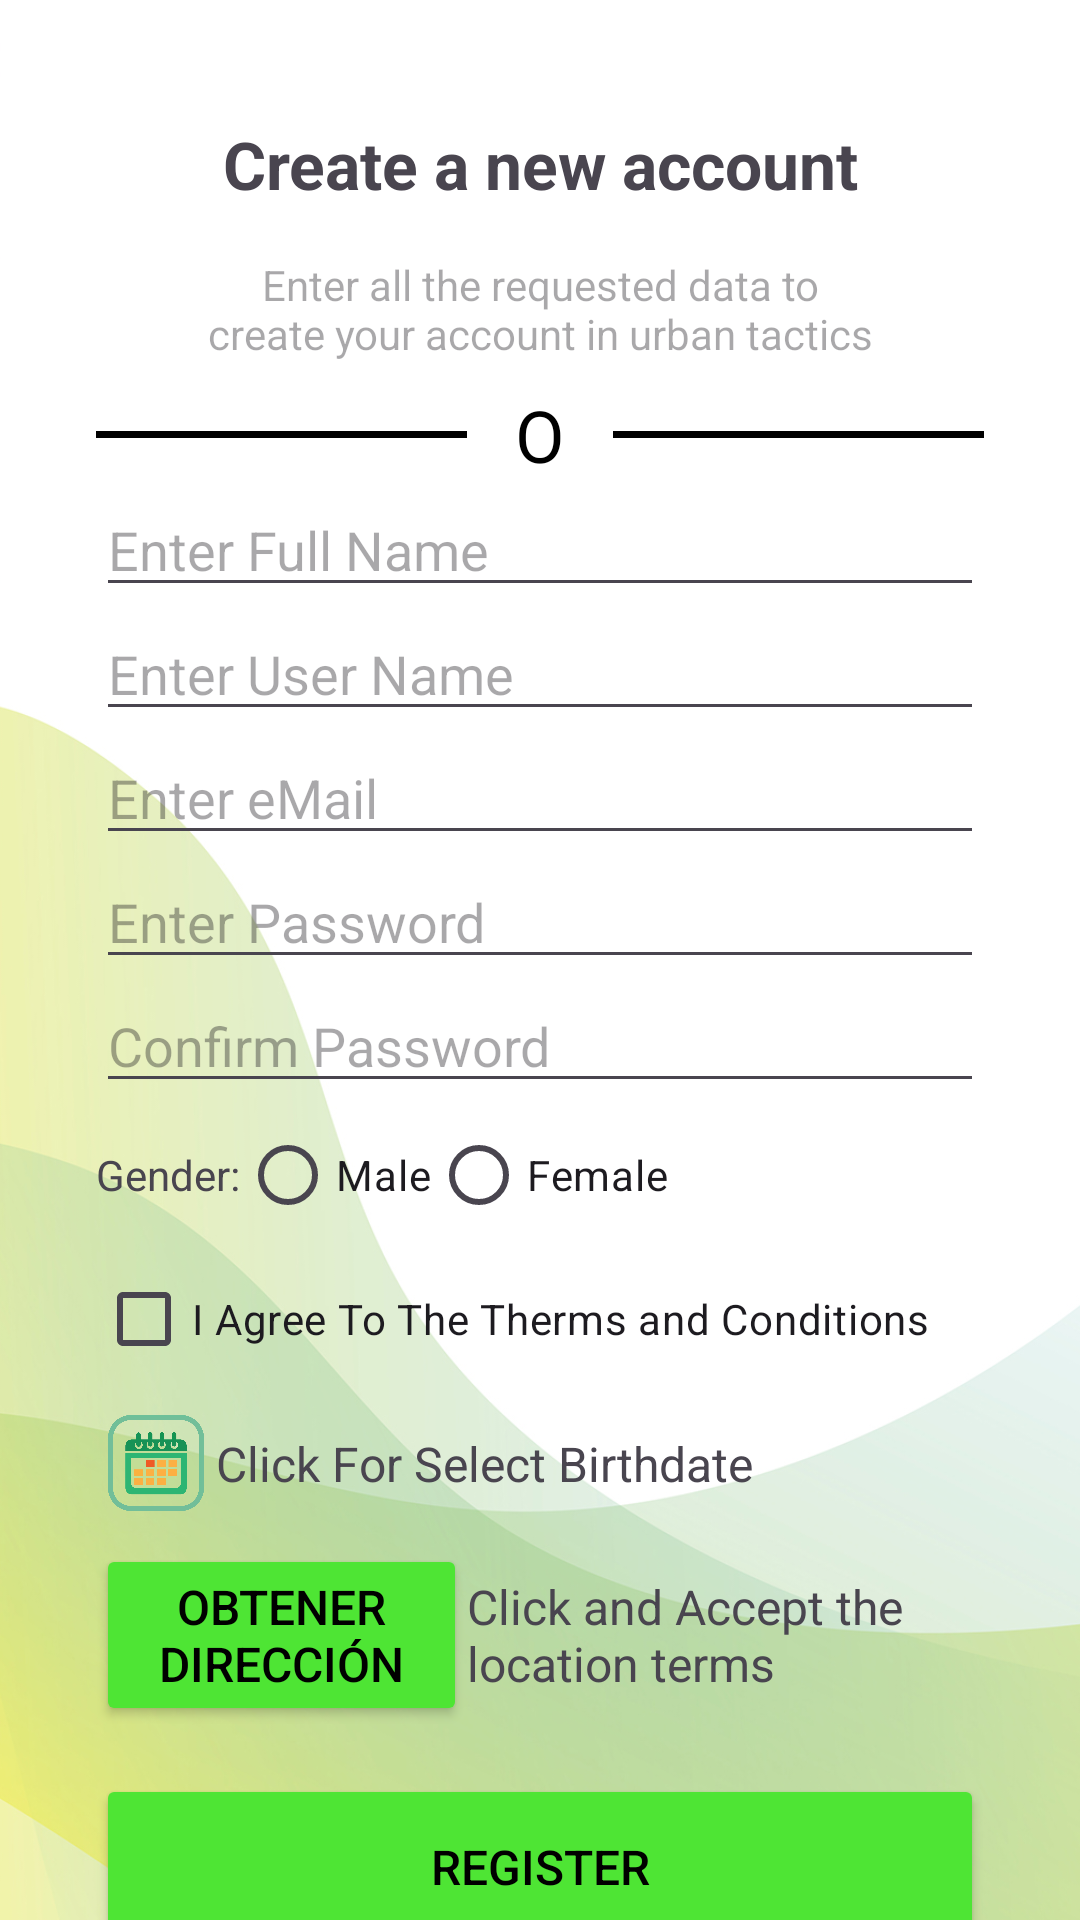

Icons on this 1080*1920 Android screen, each with the point to tap as (x=x, y=y):
calendar: (x=156, y=1463)
